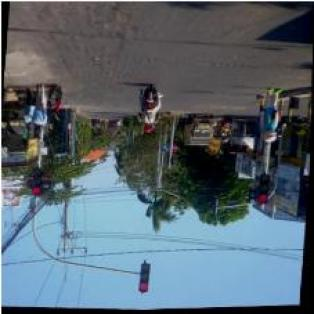Semaforo Rojo: (259, 174, 271, 205), (30, 167, 43, 195), (140, 263, 150, 293)
